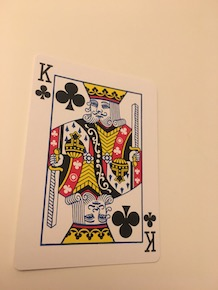KingOfClubs: (9, 50, 166, 271)
